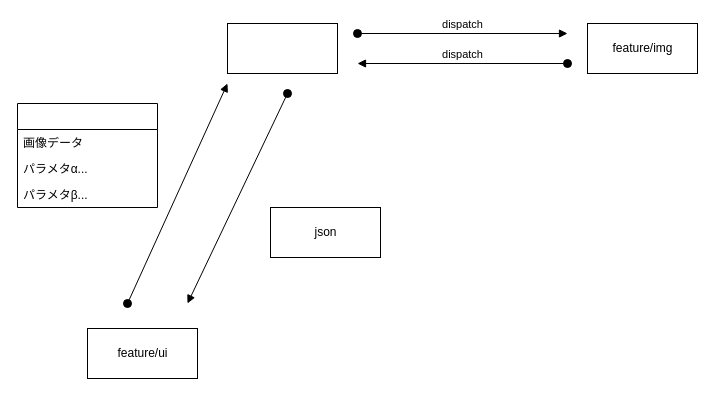
Some shapes in this 715 by 396 pixel diagram are drawn without their labels. The shapes that lost their labels are listed below. From the top down, each one's box as (x1, y1, x2, y2) in pixels, then its label:
(226, 22, 338, 74): feature/controller
(16, 102, 158, 208): multipart/form-data
